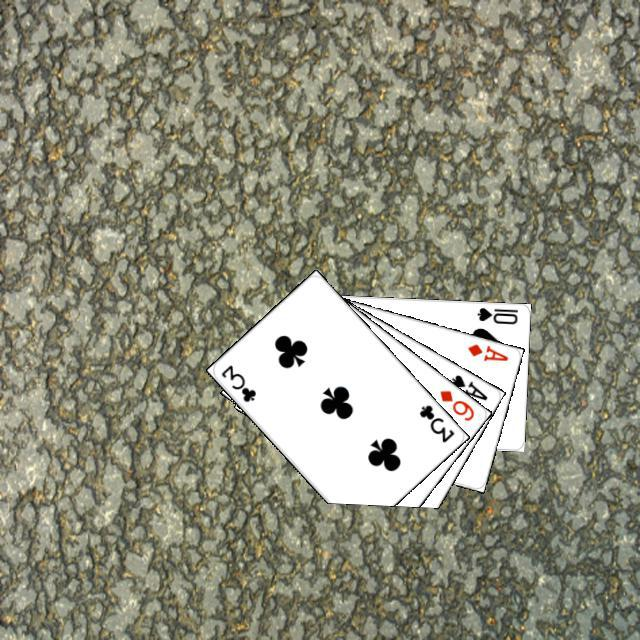10s: (472, 302, 519, 326)
3c: (414, 400, 456, 444), (216, 360, 258, 404)
6d: (435, 385, 476, 423)
Ad: (462, 339, 510, 363)
As: (446, 370, 489, 402)
